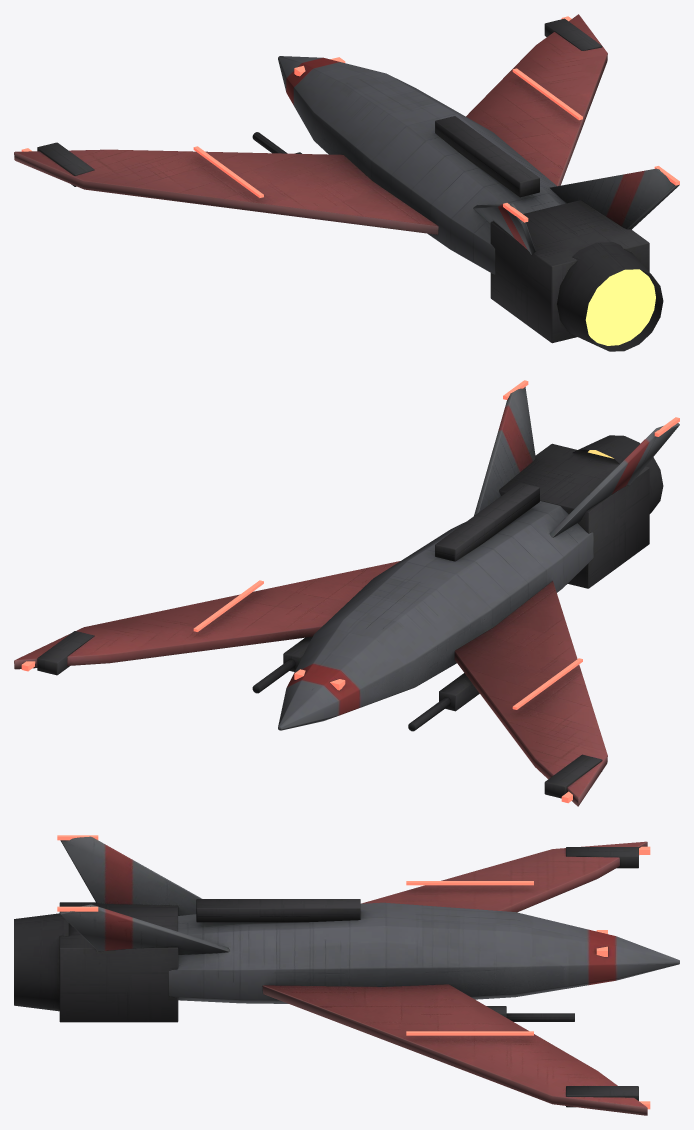
The model's file is razor.glb.
3 views of the same model, one above another, from view 1: azimuth 30°, elevation 25°; view 2: azimuth 150°, elevation 25°; view 3: azimuth 270°, elevation 25° (orthographic). The views are drawn at different scales.
Parts seen in each view (by area): view 1: Razor_Hull, Razor_EngineGlow, Razor_Glow; view 2: Razor_Hull, Razor_Glow; view 3: Razor_Hull, Razor_Glow.
Boxes of the visible parts, x1,y1,x2,y2 form: Razor_Hull: [14, 14, 679, 351]; Razor_EngineGlow: [585, 269, 655, 345]; Razor_Glow: [21, 16, 679, 222]; Razor_Hull: [14, 387, 679, 806]; Razor_Glow: [21, 380, 679, 803]; Razor_Hull: [14, 836, 679, 1115]; Razor_Glow: [57, 835, 650, 1109].
Bounding box in the file's own units: 13.8 × 3.32 × 14.6.
3 materials, 1 textured.
